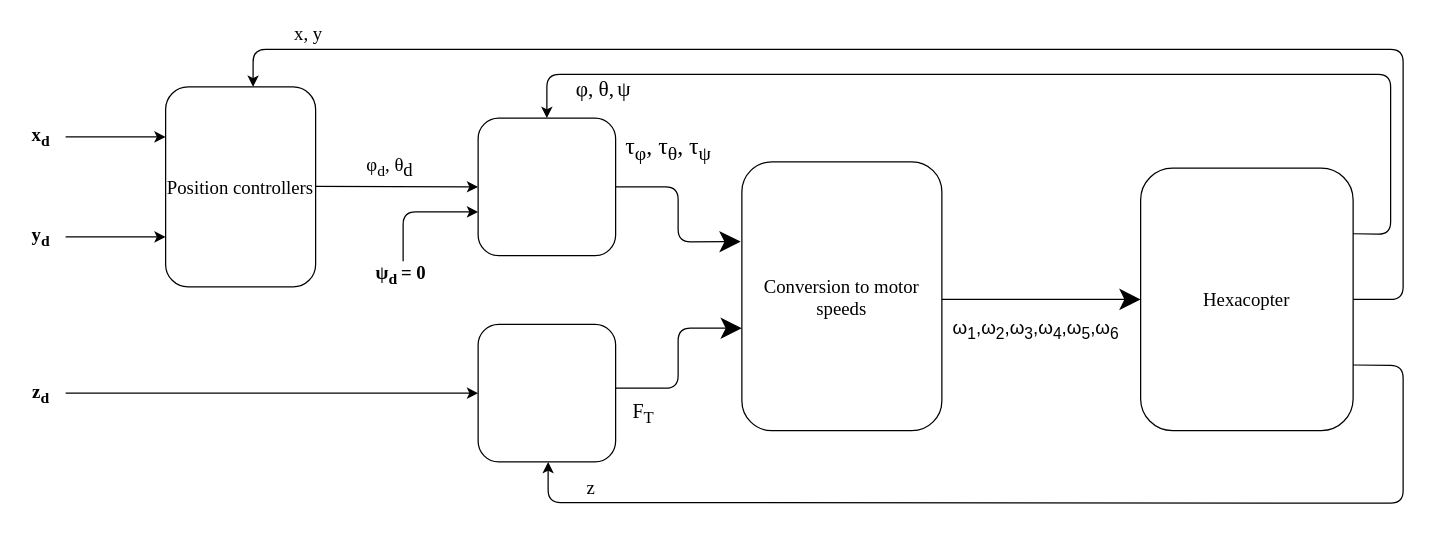
The diagram is 1435 pixels wide and 535 high, and some of its shapes have lost their labels. Each missing label, with the centre of its shape:
"Altitude controller" belongs at point 546,392.
"Angle controllers" belongs at point 546,186.
